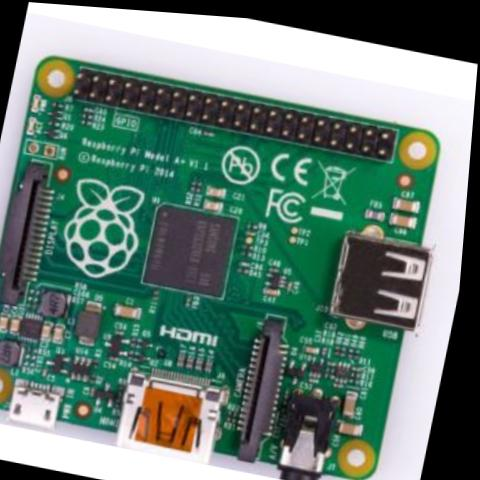Raspberry-Pi-1-Model-A-: (0, 29, 478, 480)
